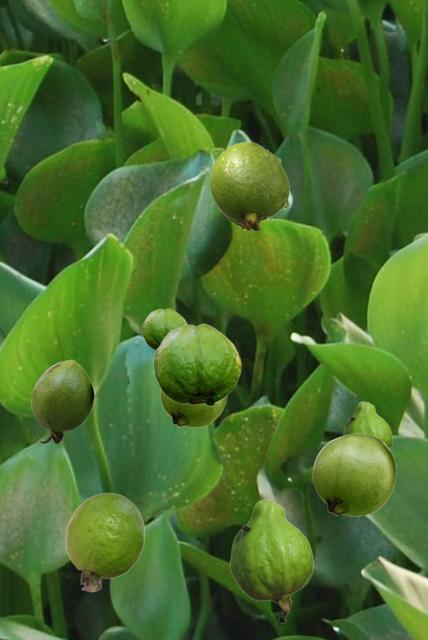guava: (229, 499, 312, 622), (65, 492, 144, 591), (153, 323, 240, 405), (209, 141, 288, 230), (312, 433, 395, 515), (31, 360, 93, 443), (160, 390, 226, 426), (342, 401, 391, 449), (142, 308, 186, 350)
